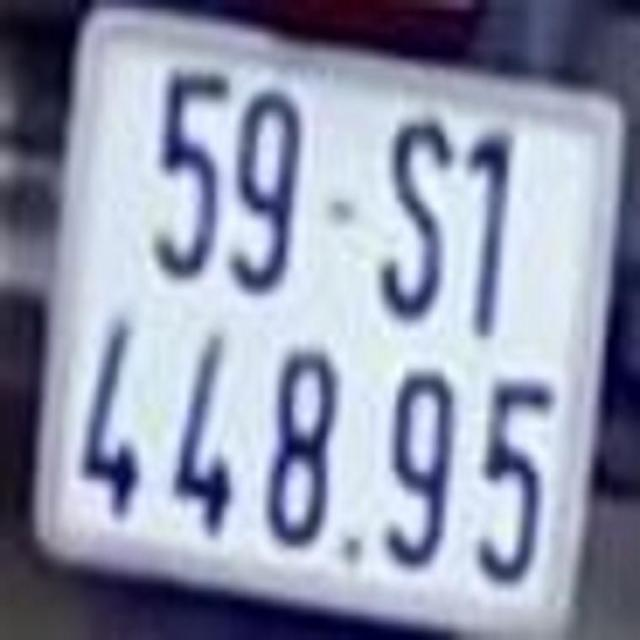1: (466, 125, 514, 332)
4: (76, 311, 144, 516), (171, 332, 233, 534)
5: (480, 377, 553, 594), (156, 56, 226, 282)
8: (266, 346, 332, 549)
9: (232, 85, 300, 304), (391, 367, 452, 570)
S: (378, 115, 457, 320)
